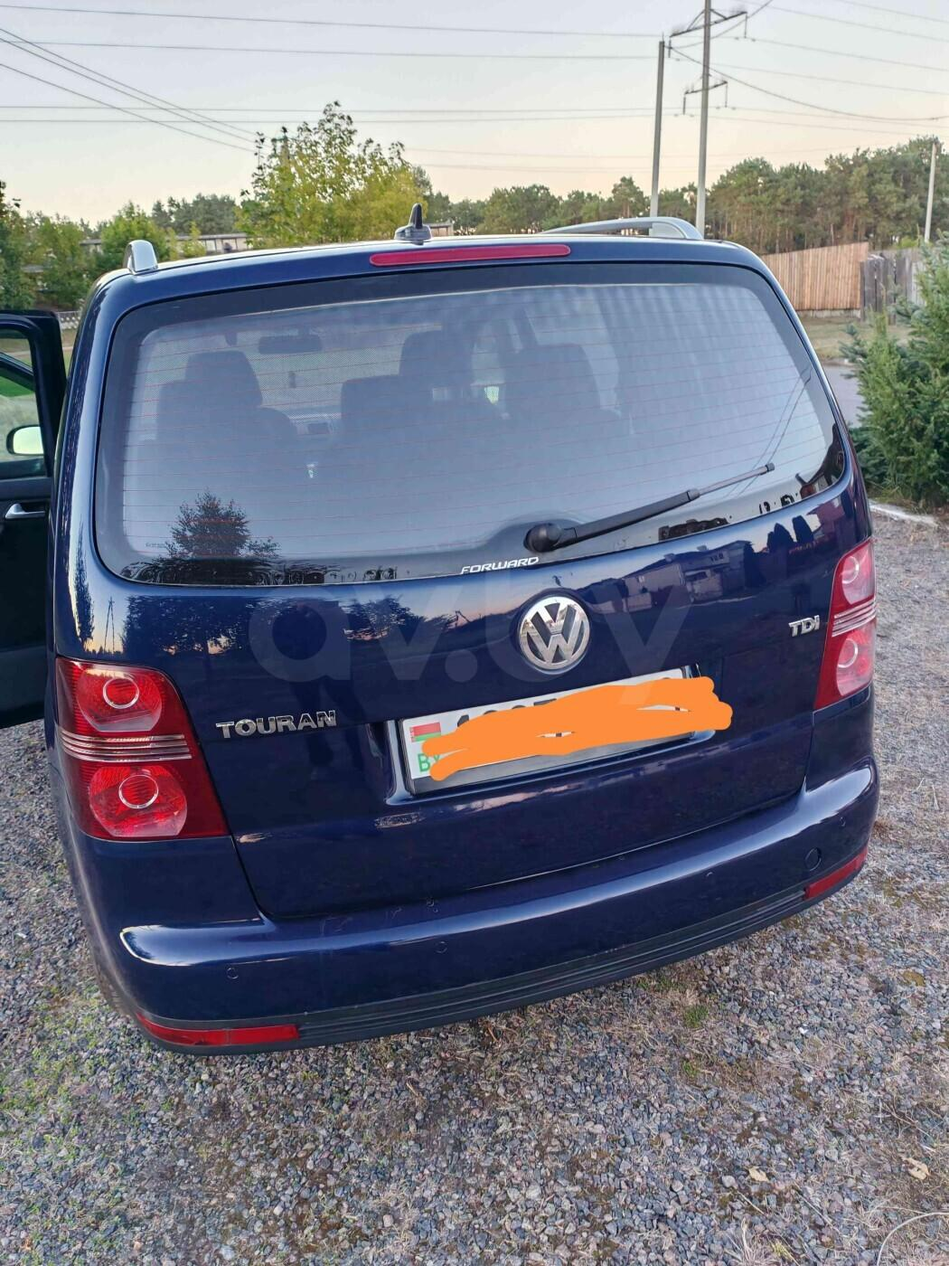Touran_2006-2010: (22, 224, 884, 1065)
